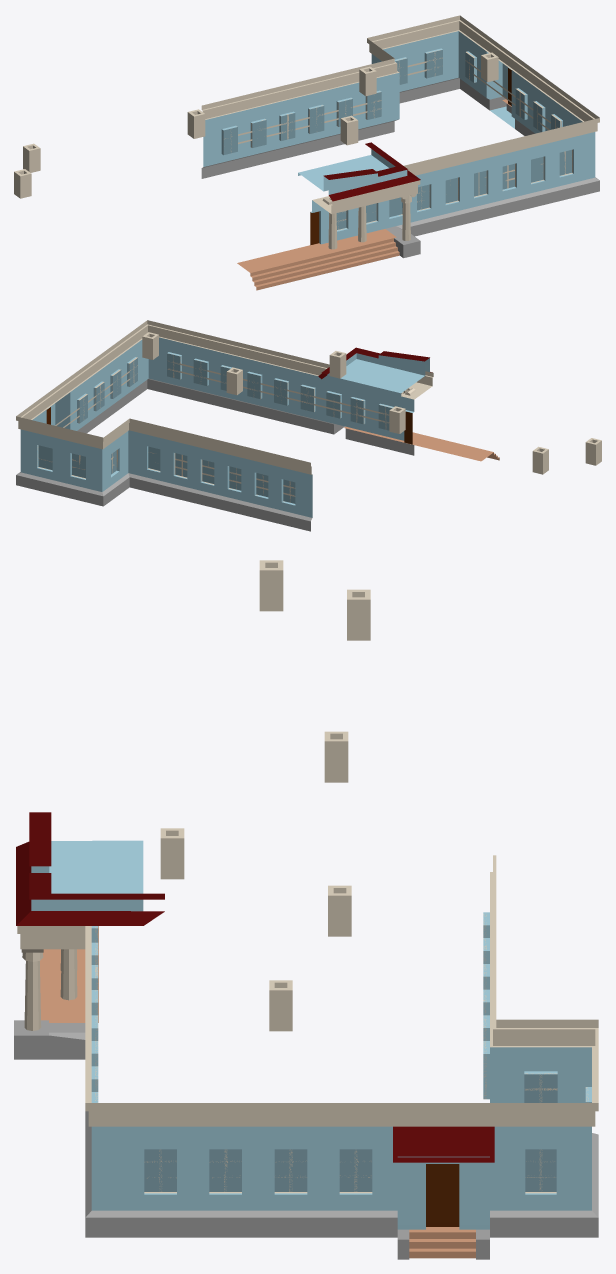
The model's file is newSHIR.glb.
3 views of the same model, one above another, from view 1: azimuth 30°, elevation 25°; view 2: azimuth 150°, elevation 25°; view 3: azimuth 270°, elevation 25° (orthographic). The views are drawn at different scales.
Visible parts, largest first — view 1: Плоскость.003, Плоскость.004, Куб.005, Плоскость.002, Плоскость.010, Плоскость.008, Цилиндр, Плоскость.009; view 2: Плоскость.003, Куб.005, Плоскость.010, Плоскость.004, Плоскость.002, Плоскость.008, Плоскость.009; view 3: Плоскость.003, Куб.005, Плоскость.002, Плоскость.006, Плоскость.004, Плоскость.005, Цилиндр, Плоскость.008.
Part boxes in pixels (left/top/right/bottom): Плоскость.003: left=201, top=15, right=599, bottom=258; Плоскость.004: left=237, top=229, right=399, bottom=290; Куб.005: left=14, top=52, right=498, bottom=198; Плоскость.002: left=323, top=142, right=420, bottom=201; Плоскость.010: left=224, top=57, right=558, bottom=222; Плоскость.008: left=223, top=50, right=572, bottom=230; Цилиндр: left=401, top=193, right=416, bottom=240; Плоскость.009: left=230, top=52, right=565, bottom=229; Плоскость.003: left=16, top=320, right=433, bottom=531; Куб.005: left=142, top=332, right=601, bottom=474; Плоскость.010: left=39, top=361, right=389, bottom=496; Плоскость.004: left=344, top=426, right=499, bottom=461; Плоскость.002: left=318, top=347, right=432, bottom=379; Плоскость.008: left=37, top=353, right=392, bottom=501; Плоскость.009: left=79, top=355, right=386, bottom=502; Плоскость.003: left=14, top=840, right=598, bottom=1259; Куб.005: left=160, top=560, right=370, bottom=1031; Плоскость.002: left=16, top=812, right=164, bottom=925; Плоскость.006: left=393, top=1126, right=494, bottom=1162; Плоскость.004: left=40, top=926, right=98, bottom=1022; Плоскость.005: left=409, top=1227, right=475, bottom=1258; Цилиндр: left=21, top=949, right=43, bottom=1030; Плоскость.008: left=95, top=914, right=588, bottom=1193.
Size of the model in its own units: 3.64 by 0.688 by 1.81.
